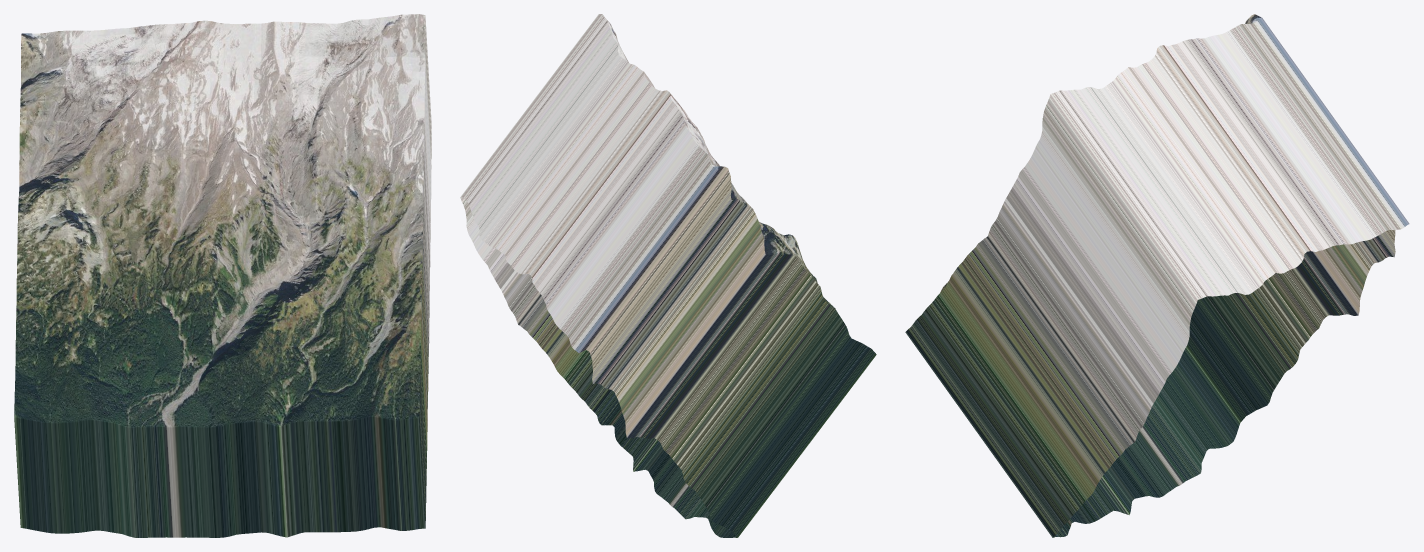
3 views of the same model, side by side, from view 1: azimuth 30°, elevation 25°; view 2: azimuth 150°, elevation 25°; view 3: azimuth 270°, elevation 25° (orthographic). The views are drawn at different scales.
Size of the model in its own units: 5571 by 6022 by 5976.
Materials: 1 (1 with a texture image).
